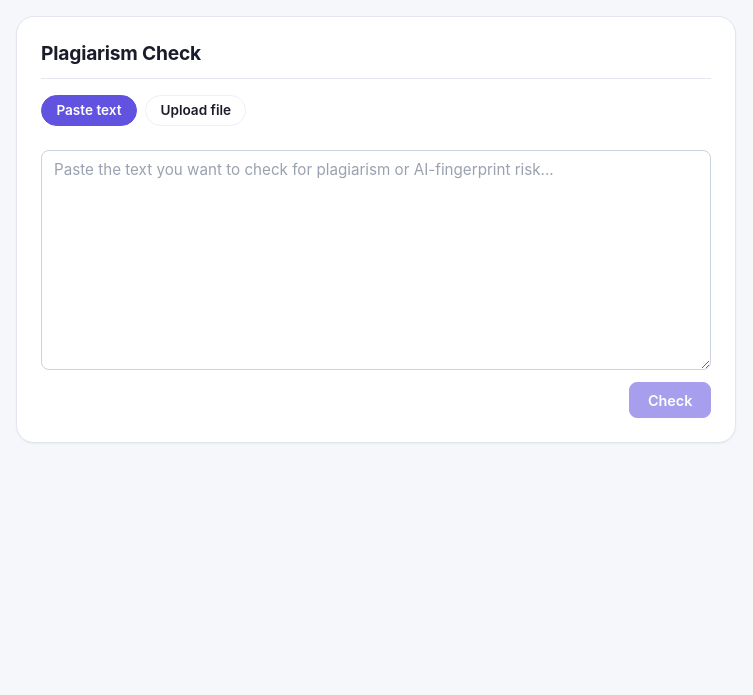
Scenario: PlagiarismCheckPanel › shows a not-flagged banner without reasons when flagged is false
Replace the text in the text box labelled "Paste the text you want to check for plagiarism or AI-fingerprint risk..." with "Clean original text" at (376, 260), box 41,150 -> 711,370
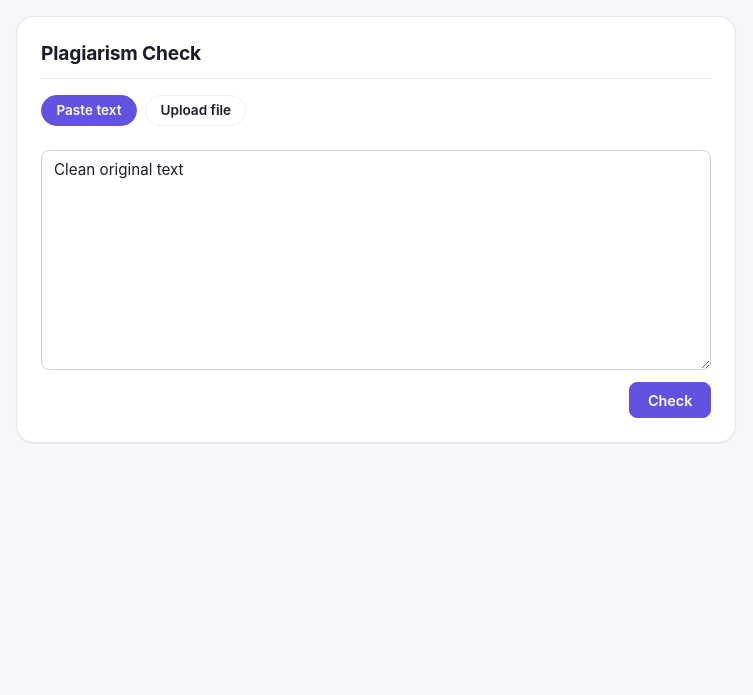
Click the button "Check" at (670, 400), box 629,382 -> 711,418
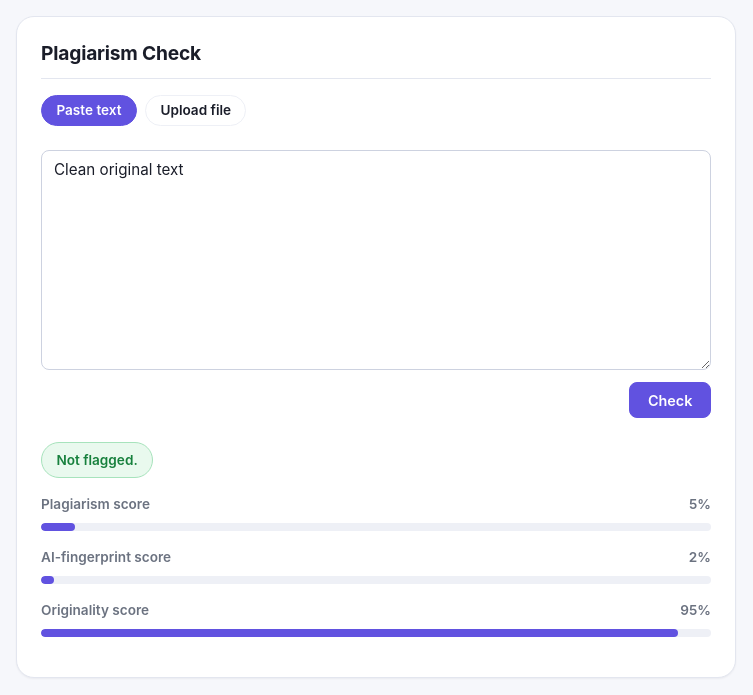
Result: the text "Not flagged." is shown at 41,442 -> 153,478
